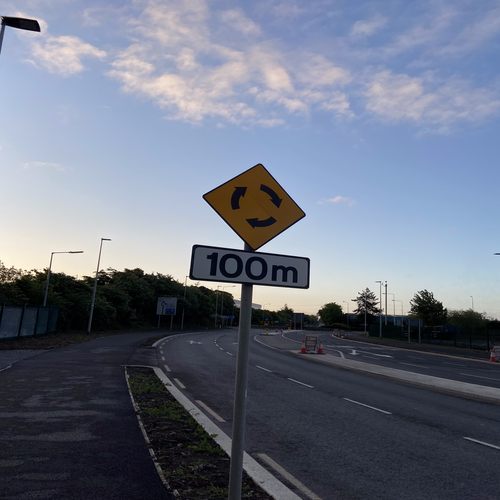Roadabout: (200, 165, 307, 246)
